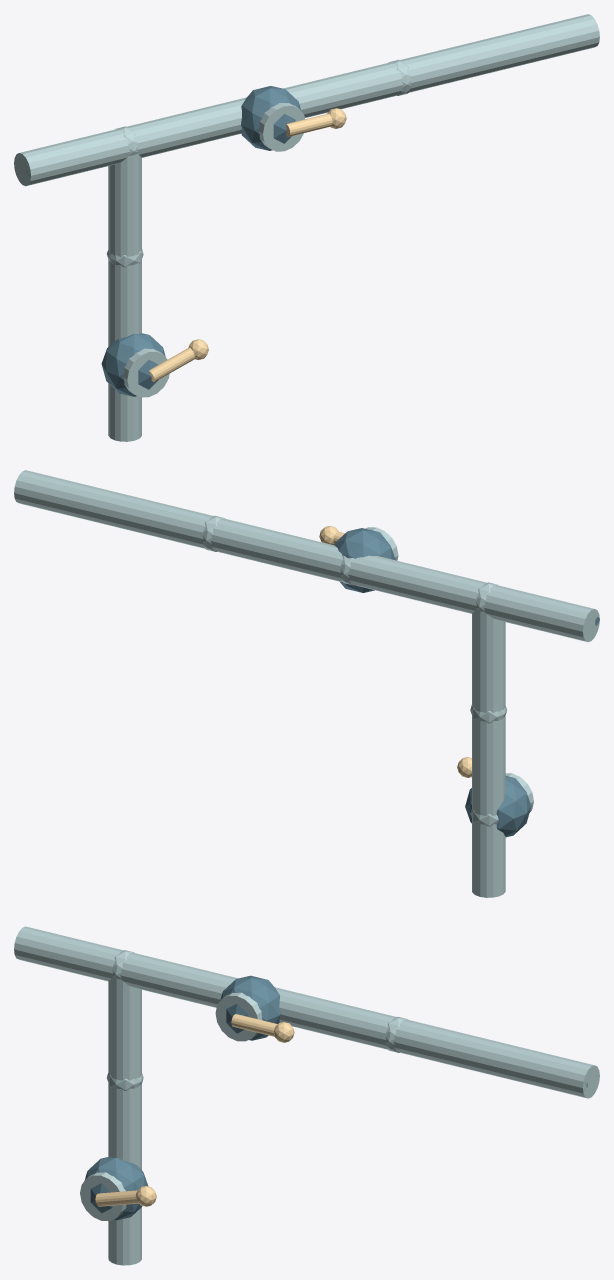
The model's file is air-11-0.glb.
3 views of the same model, one above another, from view 1: azimuth 30°, elevation 25°; view 2: azimuth 150°, elevation 25°; view 3: azimuth 330°, elevation 25° (orthographic).
Parts seen in each view (by area): view 1: pipe, dark, handle; view 2: pipe, dark, handle; view 3: pipe, dark, handle.
Boxes of the visible parts, bbox=[...] form: pipe: bbox=[14, 14, 599, 441]; dark: bbox=[26, 86, 300, 396]; handle: bbox=[149, 108, 346, 381]; pipe: bbox=[14, 470, 599, 897]; dark: bbox=[334, 528, 599, 837]; handle: bbox=[319, 526, 471, 777]; pipe: bbox=[14, 926, 599, 1265]; dark: bbox=[84, 975, 587, 1220]; handle: bbox=[95, 1014, 294, 1206].
Size of the model in its own units: 2.77 by 1.49 by 0.343.
